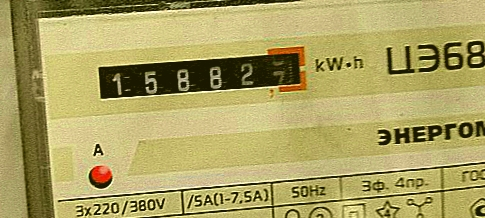1: (112, 67, 127, 97)
2: (239, 60, 257, 87)
5: (143, 67, 162, 98)
7: (272, 67, 286, 85)
8: (175, 65, 192, 94), (208, 62, 225, 91)
screen: (87, 36, 316, 112)
